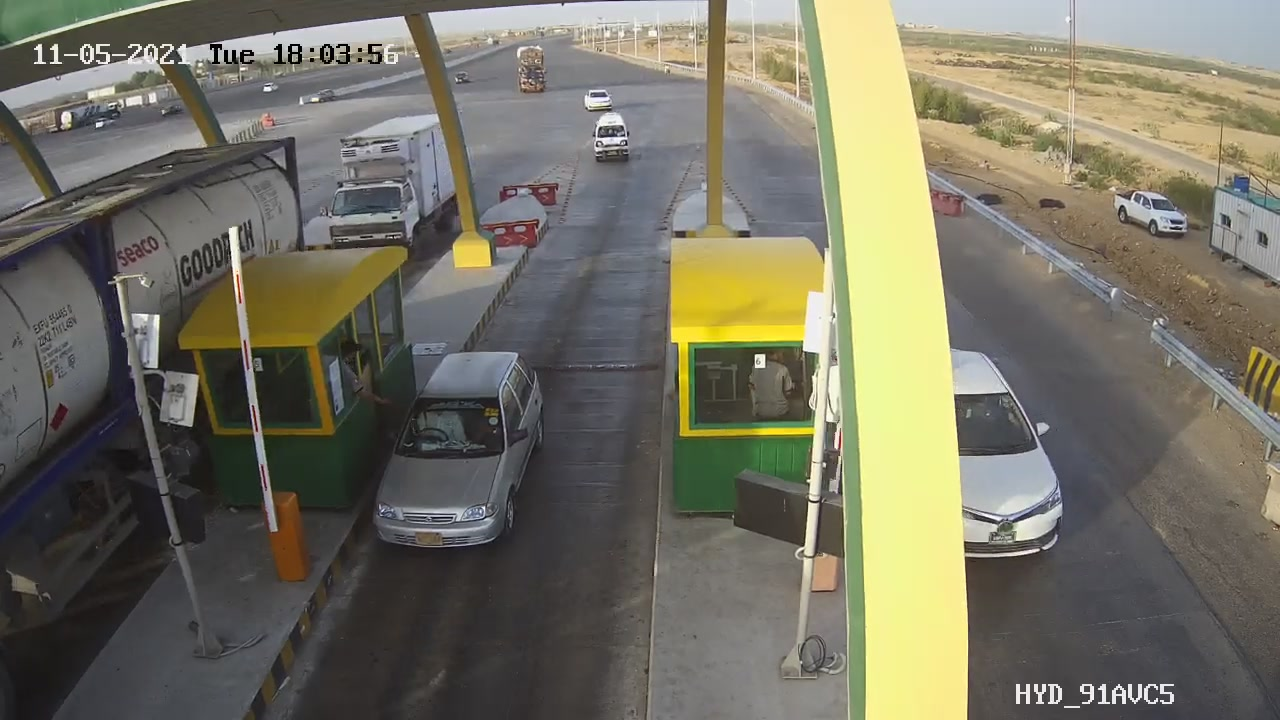F1: (355, 331, 561, 574)
